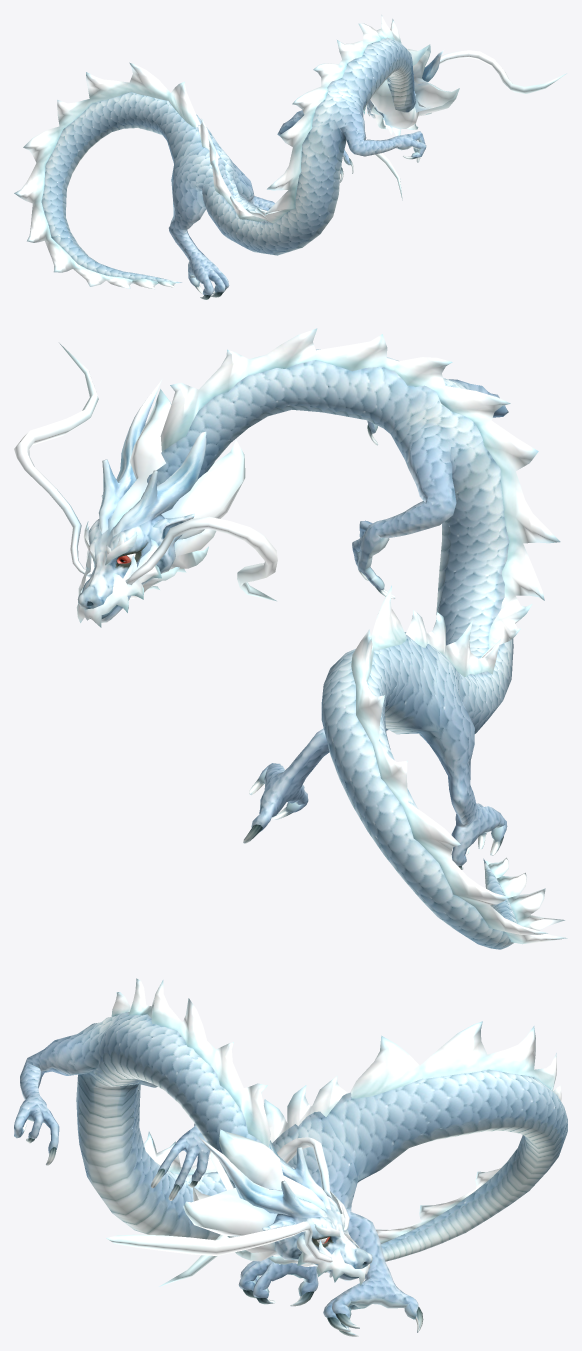
Rendered from dragon_level4.glb.
3 views of the same model, one above another, from view 1: azimuth 30°, elevation 25°; view 2: azimuth 150°, elevation 25°; view 3: azimuth 270°, elevation 25° (orthographic). The views are drawn at different scales.
Parts seen in each view (by area): view 1: Dragon_body, HairD, HairA, Beard; view 2: Dragon_body, HairD, Beard, HairA, HairB; view 3: Dragon_body, HairD, HairA, Beard, HairB.
Boxes of the visible parts, bbox=[...] form: Dragon_body: bbox=[41, 37, 443, 299]; HairD: bbox=[14, 15, 401, 289]; HairA: bbox=[370, 44, 459, 129]; Beard: bbox=[375, 50, 566, 200]; Dragon_body: bbox=[76, 349, 517, 949]; HairD: bbox=[160, 328, 567, 944]; Beard: bbox=[14, 343, 277, 601]; HairA: bbox=[109, 389, 245, 539]; HairB: bbox=[170, 529, 216, 572]; Dragon_body: bbox=[14, 1012, 567, 1336]; HairD: bbox=[111, 978, 561, 1266]; HairA: bbox=[183, 1129, 326, 1236]; Beard: bbox=[106, 1137, 349, 1286]; HairB: bbox=[227, 1236, 279, 1261].
Size of the model in its own units: 35.05 by 21.44 by 27.16.
1 material, 1 textured.
